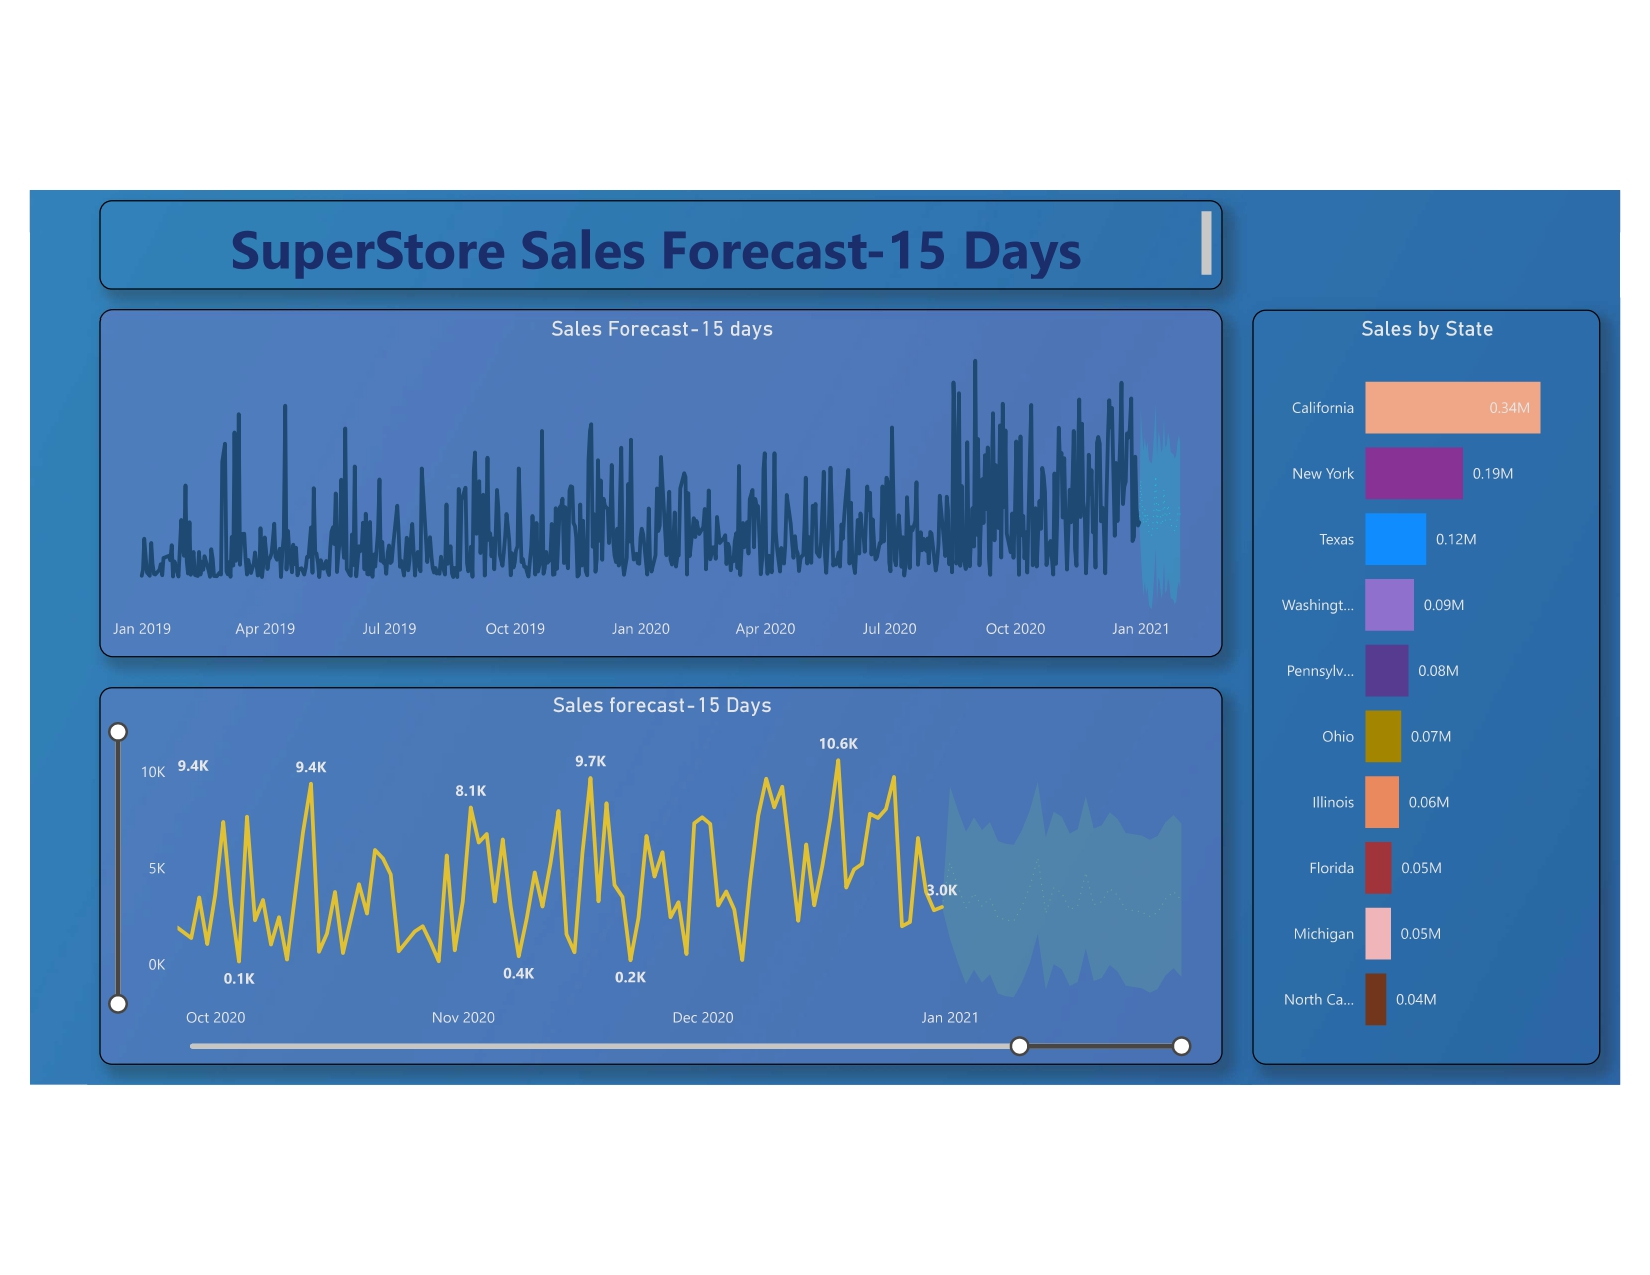

This screenshot's page, from the dashboard's own definition file:
{"tool":"powerbi","page":{"name":"Sales Forecast","canvas":[1280,720],"ordinal":1},"visuals":[{"type":"lineChart","title":"Sales Forecast-15 days","fields":{"Y":["Sum(SuperStore_Sales_Dataset.Sales)"],"Category":["SuperStore_Sales_Dataset.Order Date"]},"box":[56,96,904,280],"z":0},{"type":"lineChart","title":"Sales forecast-15 Days","fields":{"Y":["Sum(SuperStore_Sales_Dataset.Sales)"],"Category":["SuperStore_Sales_Dataset.Order Date"]},"box":[56,400,904,304],"z":1000},{"type":"clusteredBarChart","title":"Sales by State","fields":{"Y":["Sum(SuperStore_Sales_Dataset.Sales)"],"Category":["SuperStore_Sales_Dataset.State"]},"box":[984,96,280,608],"z":2000},{"type":"textbox","box":[56,8,904,72],"z":3000}]}

Visuals, with their boxes in screenshot pixels (x1, y1, x2, y2):
"Sales Forecast-15 days" lineChart: {"x1": 27, "y1": 281, "x2": 1218, "y2": 650}
"Sales forecast-15 Days" lineChart: {"x1": 27, "y1": 682, "x2": 1218, "y2": 1083}
"Sales by State" clusteredBarChart: {"x1": 1250, "y1": 281, "x2": 1619, "y2": 1083}
textbox: {"x1": 27, "y1": 165, "x2": 1218, "y2": 260}
